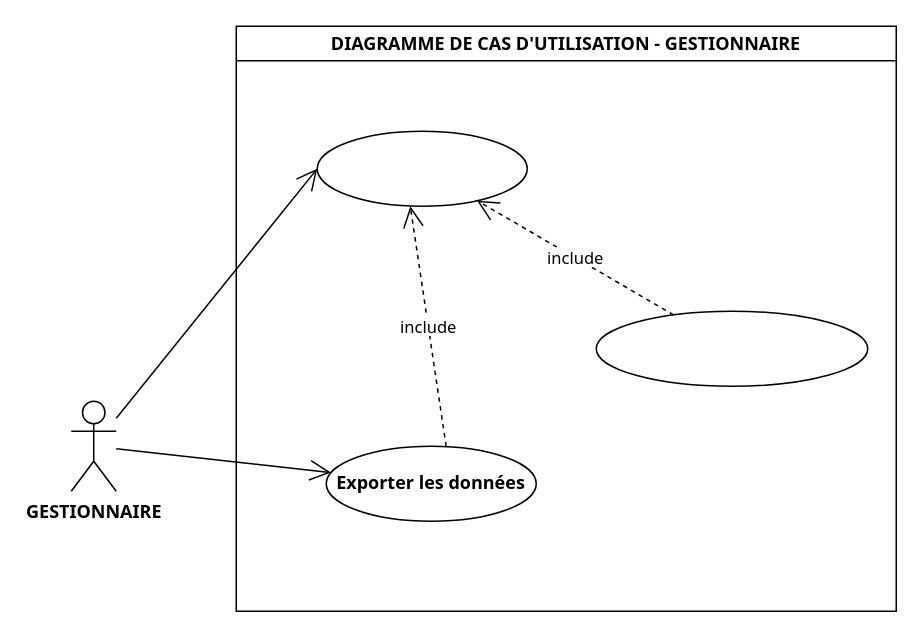
This 923x638 diagram has some shape labels left out. Here are the shapes that lost their labels. From the top down, the box of each, then its label:
(316, 130, 527, 206): S'authentifier
(595, 310, 868, 386): Consulter les statistiques
